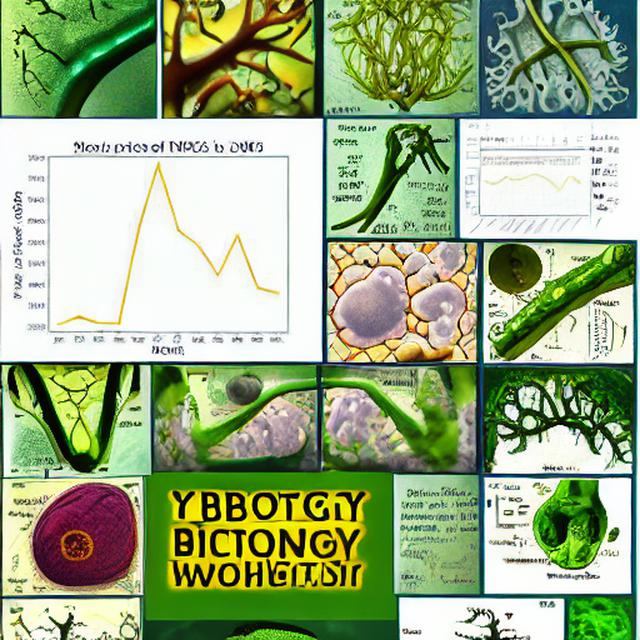Graph: (10, 127, 319, 359), (461, 161, 588, 237)
